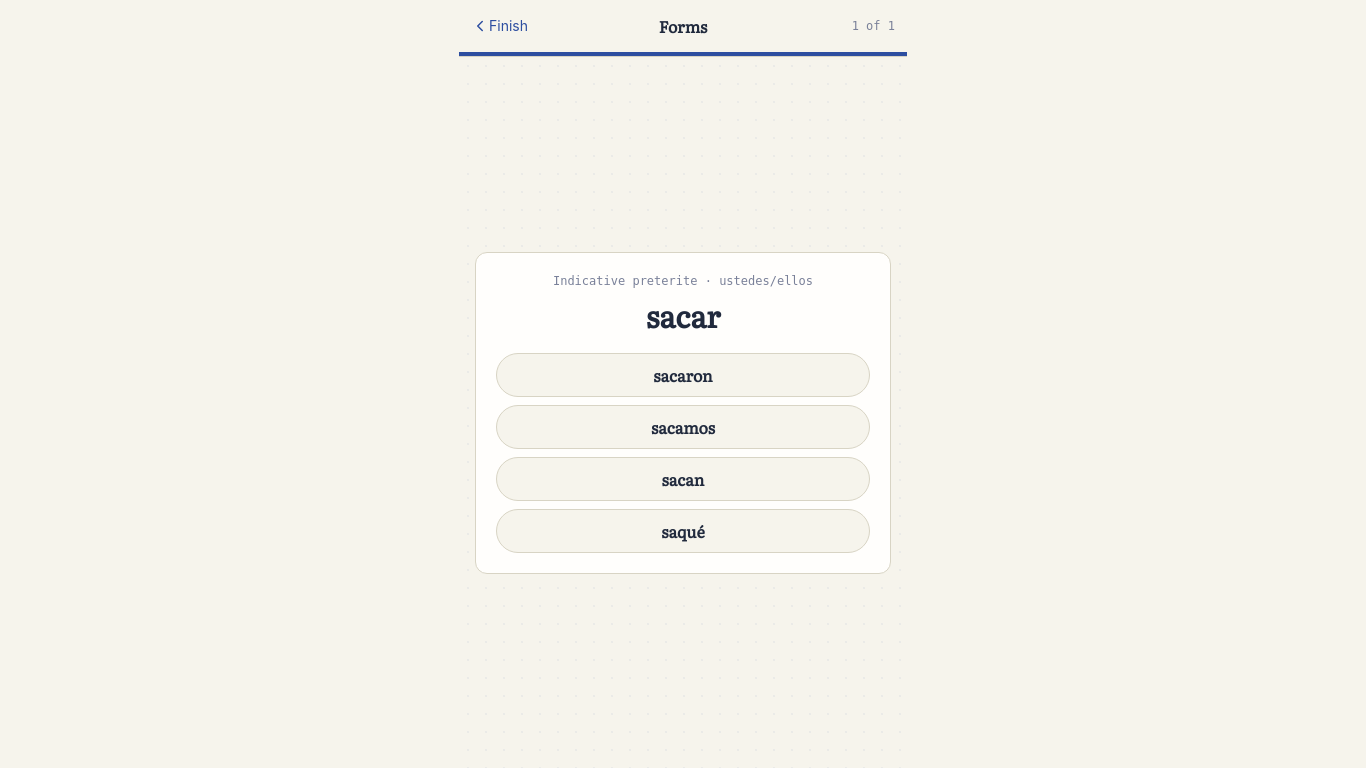
Test case: choose sessions › offers four forms of the verb, marks objectively, diagnoses the miss, and allows no retry
The width and height of the screenshot is (1366, 768).
Check: the text "Indicative preterite · ustedes/ellos" is shown, box [553,274,813,288]
Click the button "sacamos" at (683, 426), box [496,404,870,448]
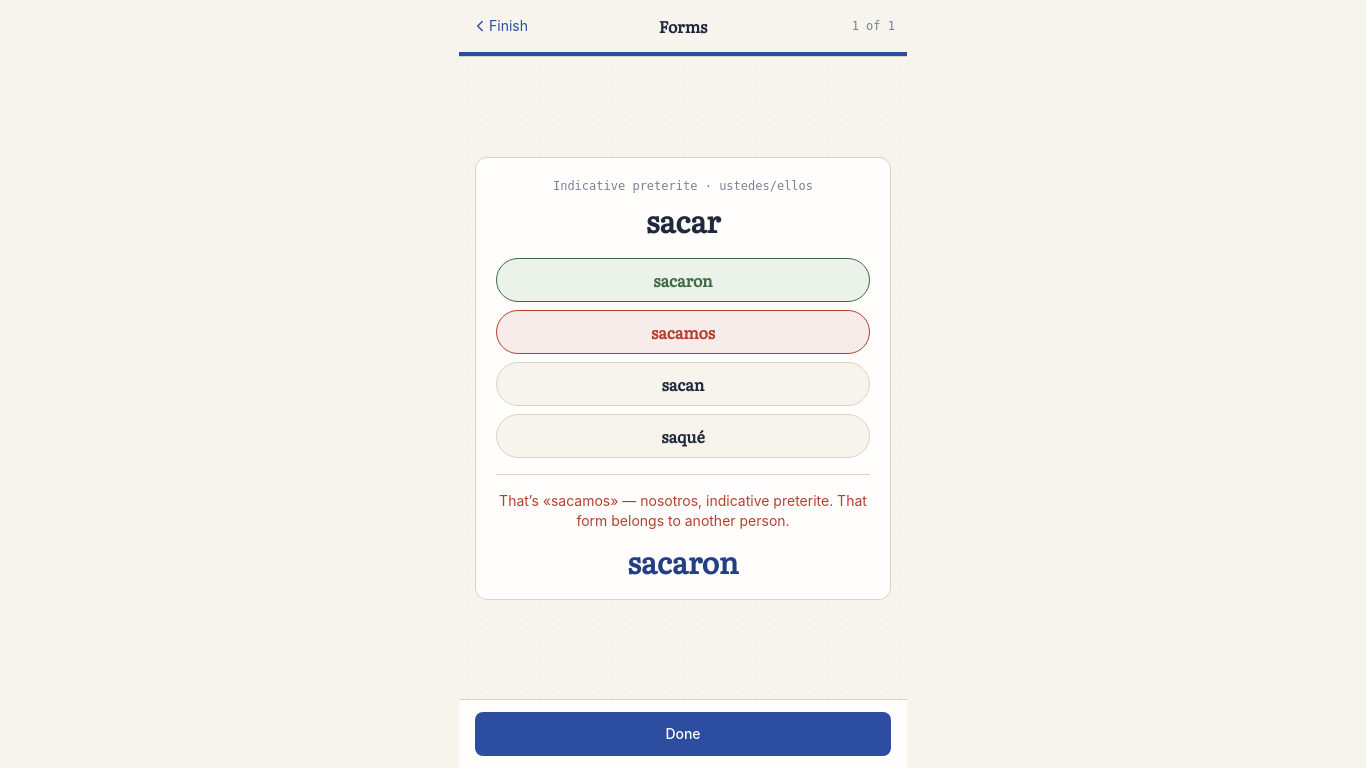
Check: the text "That’s «sacamos» — nosotros, indicative preterite. That form belongs to another person." is shown, box [499,492,867,528]
Check: the button "sacamos" is disabled, box [496,310,870,354]
Check: the button "Done" is shown, box [475,712,891,756]
